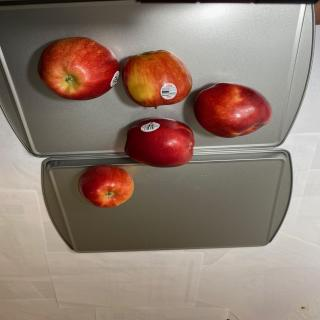Apple: (37, 36, 120, 101), (193, 82, 272, 138), (121, 50, 192, 110), (124, 118, 195, 168), (78, 164, 134, 208)
